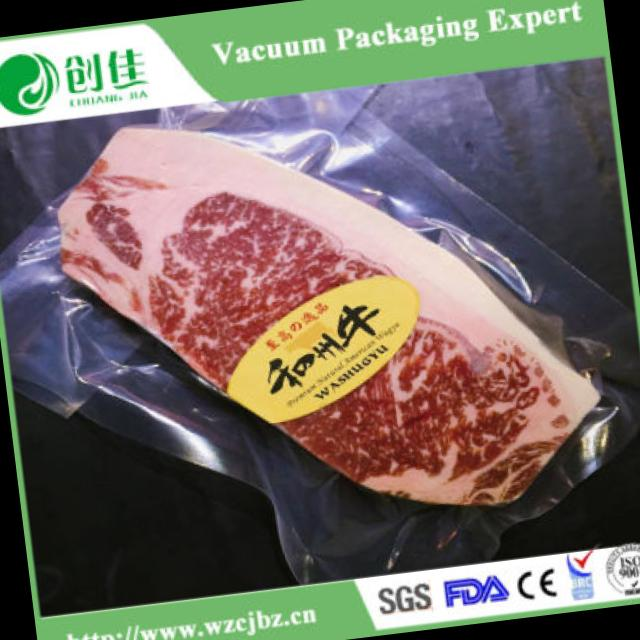pork: (20, 51, 630, 562)
